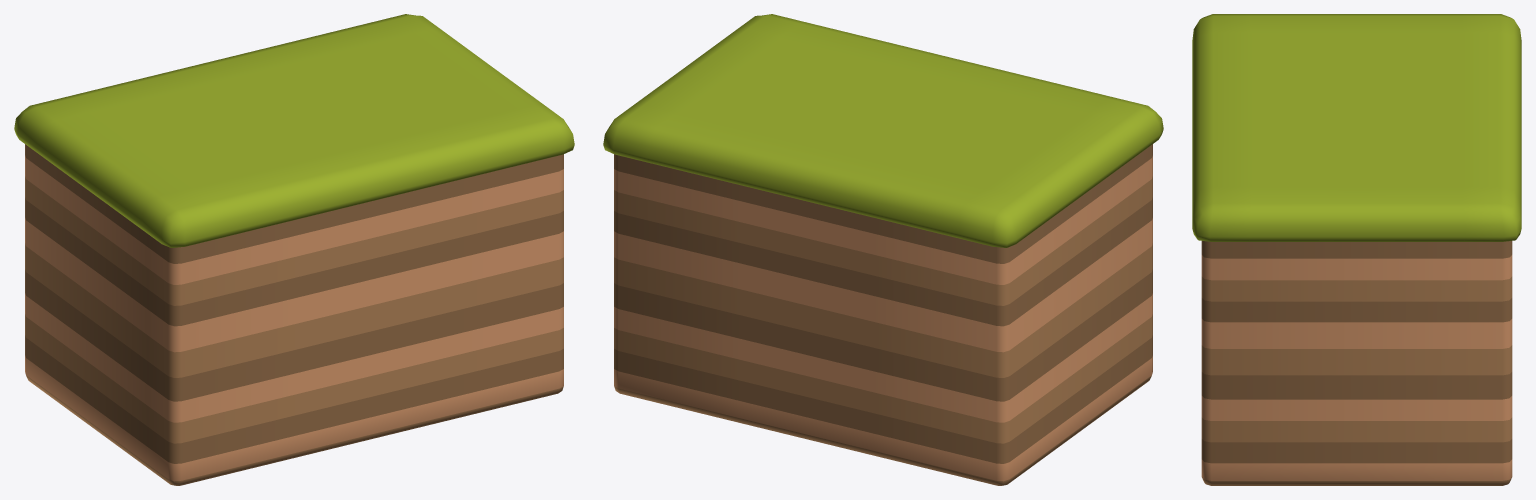
The model's file is Cube_Grass_Side_Tall_015.gltf.
3 views of the same model, side by side, from view 1: azimuth 30°, elevation 25°; view 2: azimuth 150°, elevation 25°; view 3: azimuth 270°, elevation 25° (orthographic). The views are drawn at different scales.
Visible parts, largest first — view 1: Cube_Grass_Side_Tall.015; view 2: Cube_Grass_Side_Tall.015; view 3: Cube_Grass_Side_Tall.015.
Part boxes in pixels (<box>): Cube_Grass_Side_Tall.015: <box>14,14,574,485</box>; Cube_Grass_Side_Tall.015: <box>603,14,1163,485</box>; Cube_Grass_Side_Tall.015: <box>1192,14,1521,485</box>.
Bounding box in the file's own units: 6.23 × 4 × 4.23.
